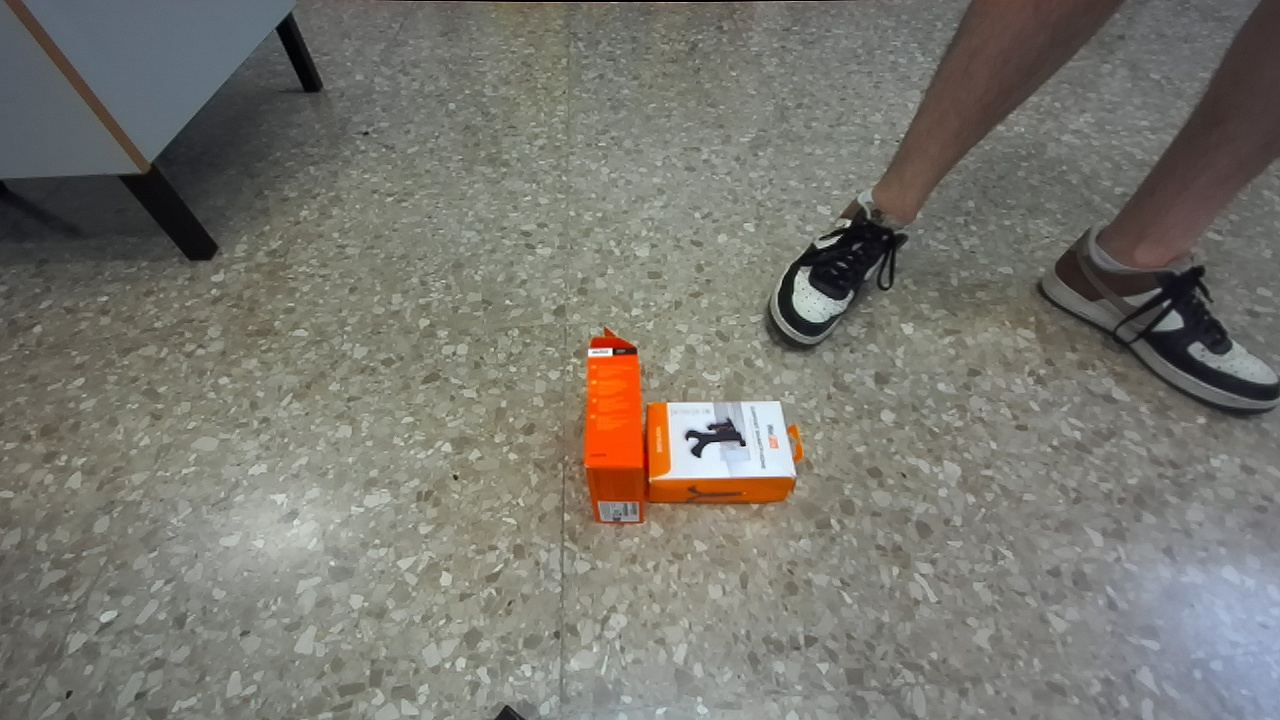caja_manguera: (583, 327, 647, 523)
caja_pcb: (647, 402, 802, 502)
